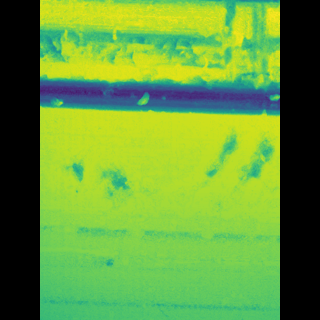Loch: (73, 119, 250, 229), (68, 0, 245, 93)
